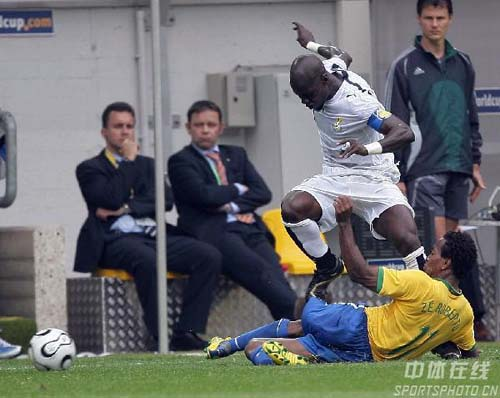fall: (205, 202, 495, 367)
